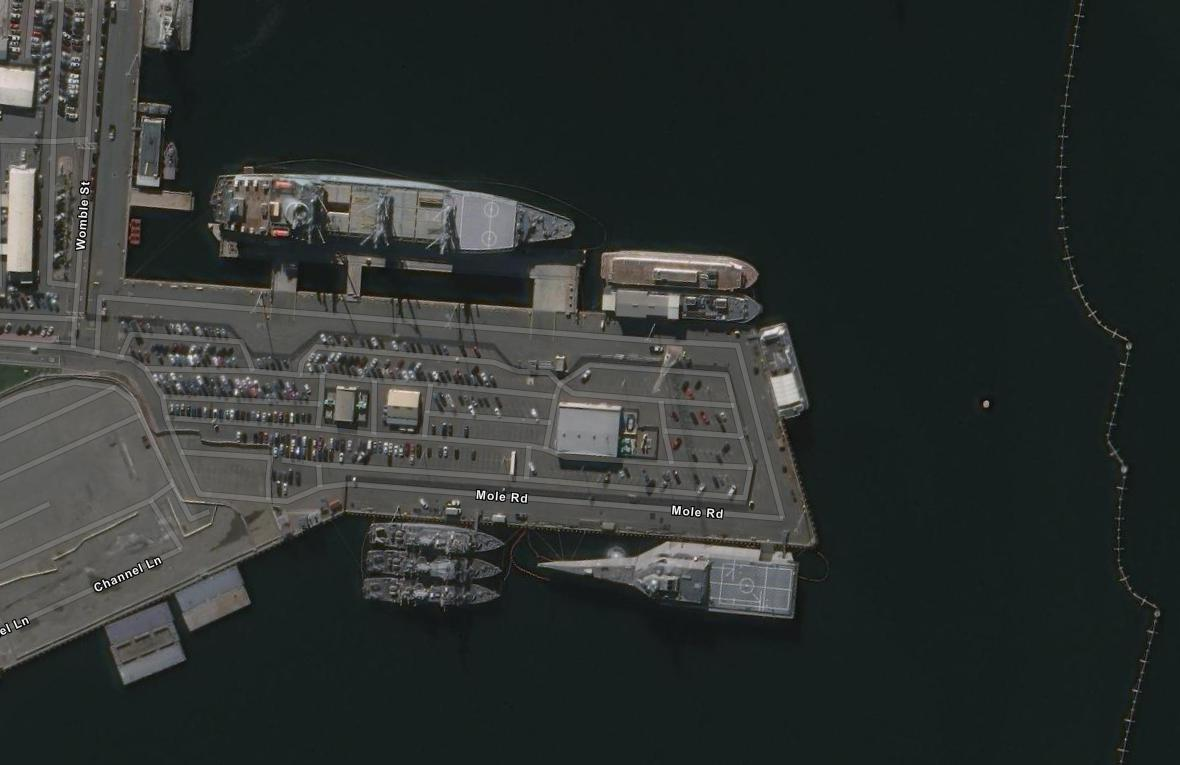littoral combat ship: (519, 533, 819, 627)
supply: (205, 159, 585, 260)
